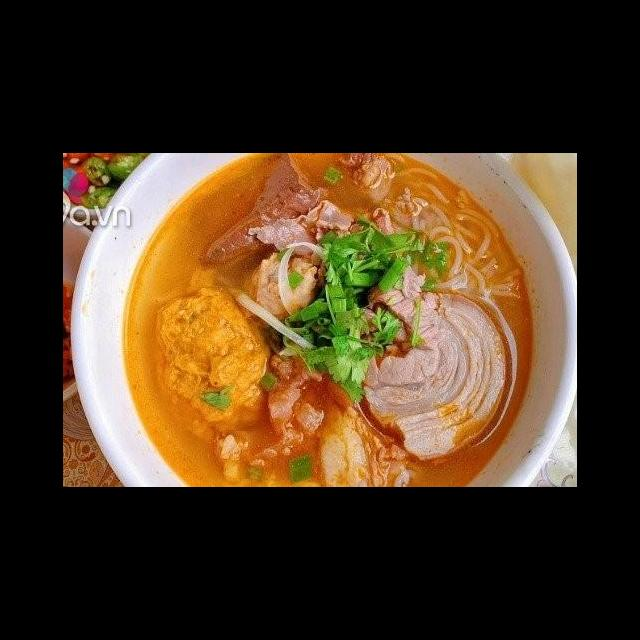bun: (382, 163, 531, 303)
bun bo: (130, 179, 527, 472)
thit bo: (345, 256, 514, 465)
